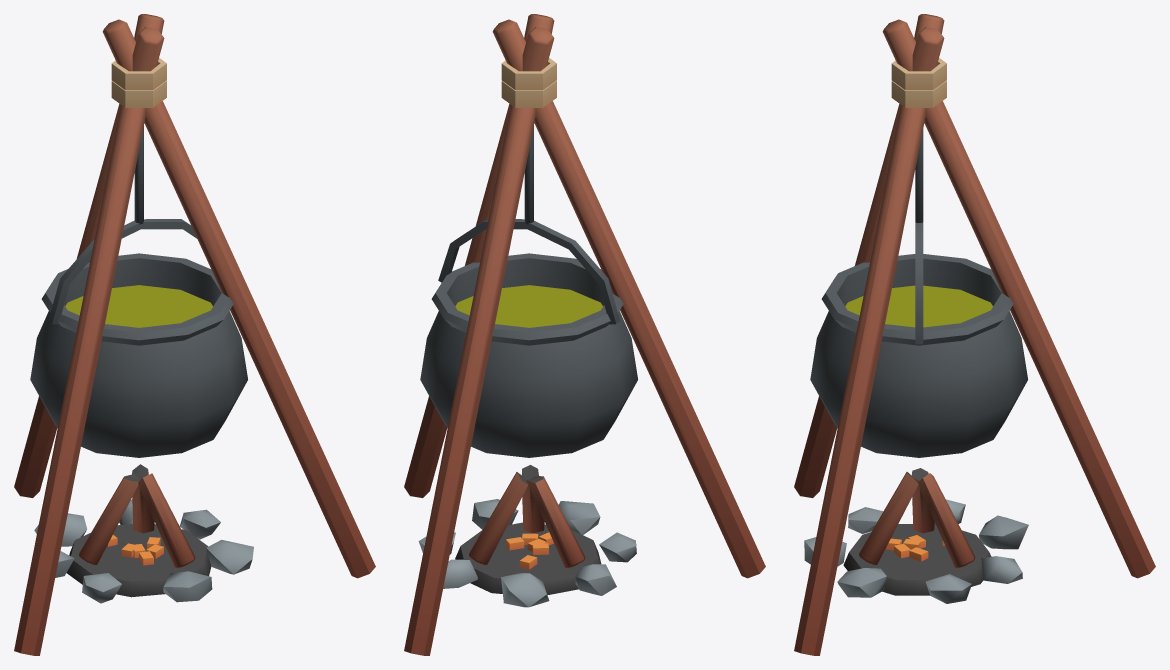
File: cauldron.fbx
3 views of the same model, side by side, from view 1: azimuth 30°, elevation 25°; view 2: azimuth 150°, elevation 25°; view 3: azimuth 270°, elevation 25° (orthographic).
Parts seen in each view (by area): view 1: cauldron; view 2: cauldron; view 3: cauldron.
Part boxes in pixels (<box>): cauldron: <box>14,14,375,655</box>; cauldron: <box>404,14,765,655</box>; cauldron: <box>794,14,1155,655</box>.
Size of the model in its own units: 0.6222 by 0.9263 by 0.5481.
Materials: 1 (1 with a texture image).
